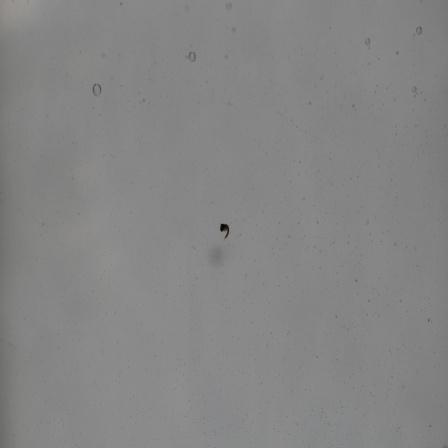Jentik-Nyamuk: (214, 219, 233, 246)
